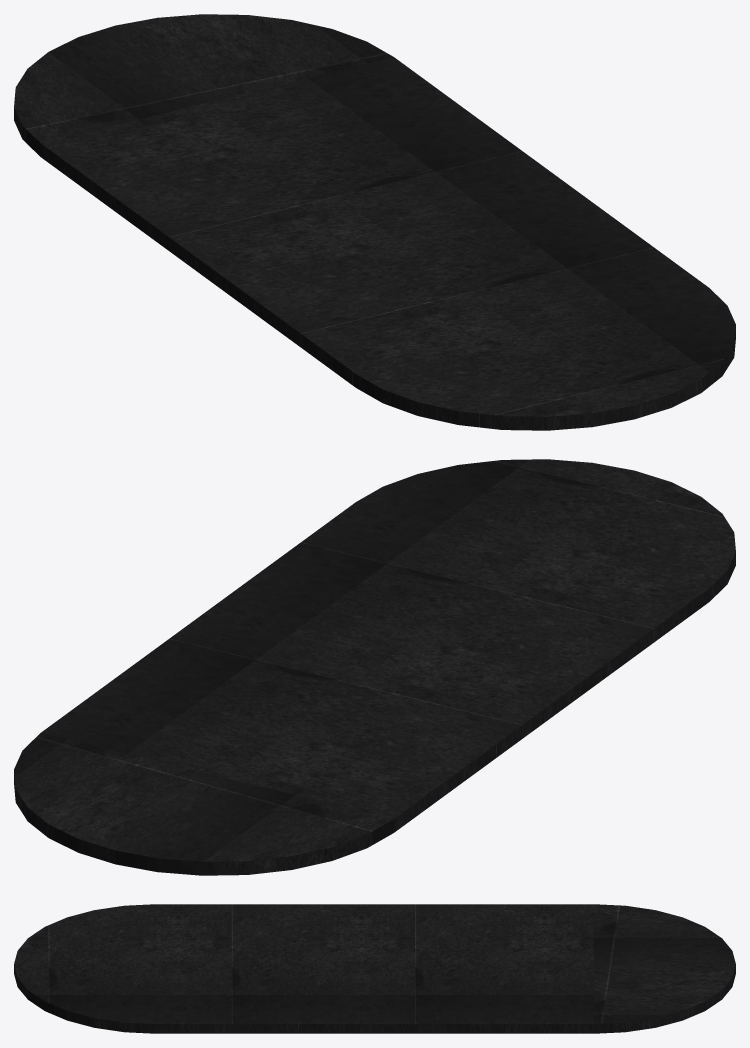
Rendered from podium.obj.
The picture shows the model from 3 angles, top to bottom: view 1: azimuth 30°, elevation 25°; view 2: azimuth 150°, elevation 25°; view 3: azimuth 270°, elevation 25°; orthographic projection. The views are drawn at different scales.
Visible parts, largest first — view 1: dance-podium; view 2: dance-podium; view 3: dance-podium.
Boxes of the visible parts, x1=… form: dance-podium: x1=14, y1=14, x2=735, y2=430; dance-podium: x1=14, y1=459, x2=735, y2=875; dance-podium: x1=14, y1=904, x2=735, y2=1033.
Bounding box in the file's own units: 1.53 × 0.0574 × 3.9.
Materials: 1 (1 with a texture image).
